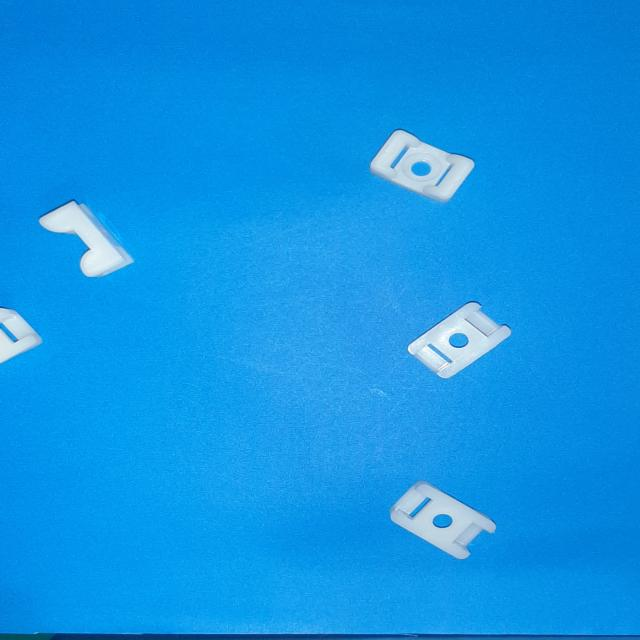false_1: (390, 480, 495, 559), (407, 301, 510, 379)
false_2: (40, 201, 133, 278)
true: (370, 130, 473, 202)
true_center: (411, 161, 432, 176)
